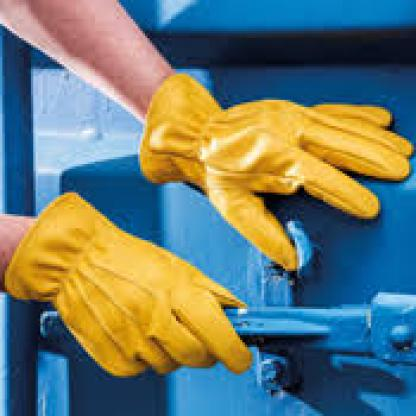with_gloves: (138, 74, 413, 271), (2, 190, 252, 380)
